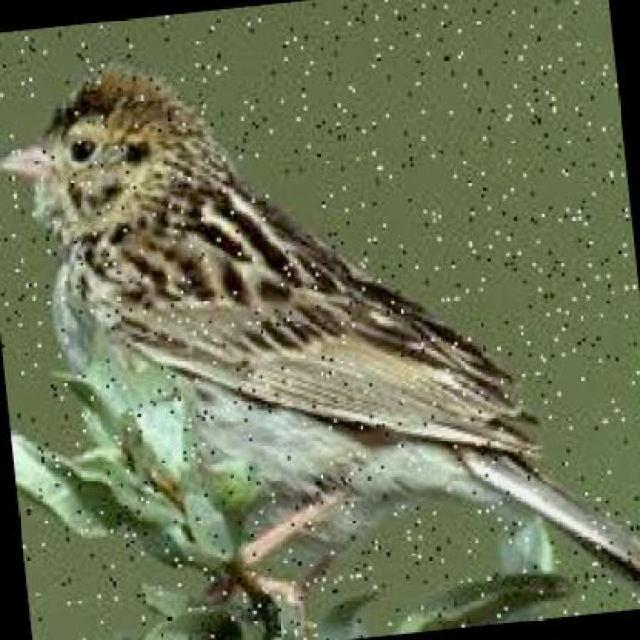Bird: (9, 51, 636, 586)
